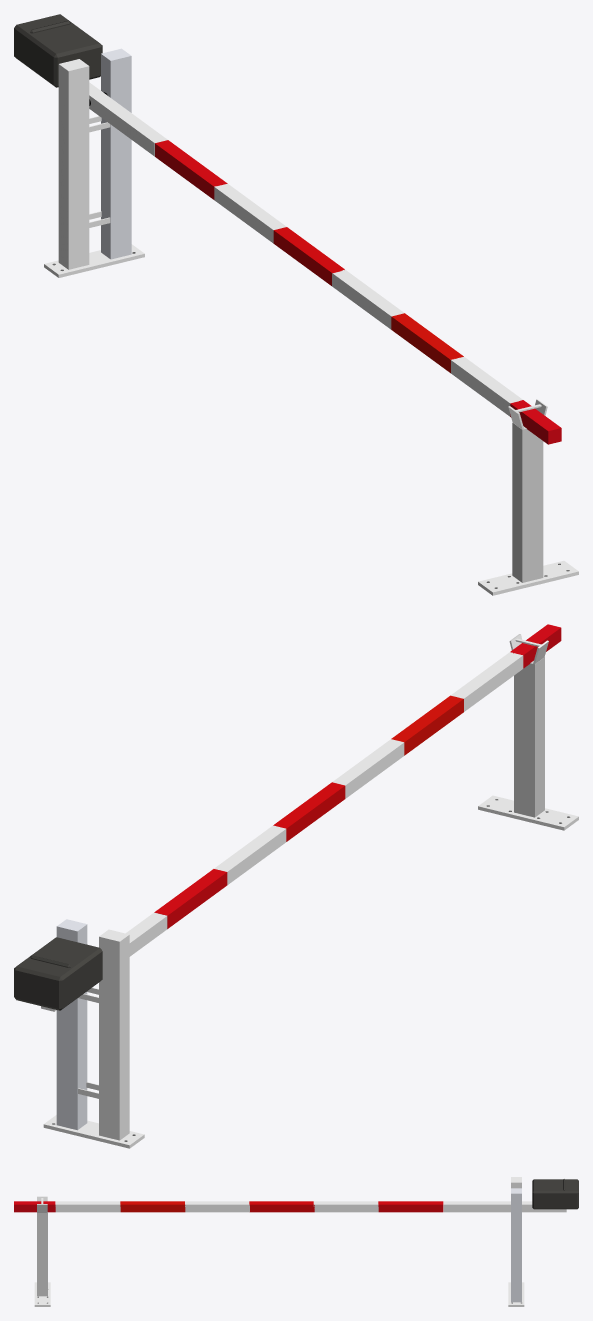
File: rising_barier_-_vastie.glb
3 renders of one model, top to bottom at view 1: azimuth 30°, elevation 25°; view 2: azimuth 150°, elevation 25°; view 3: azimuth 270°, elevation 25°, orthographic. The views are drawn at different scales.
Visible parts, largest first — view 1: Cube_0, Cube.001_3, Cube.006_8, Cube.020_34, Cube.005_7, Cube.010_12, Cube.014_16, Cube.011_13, Cube.013_15, Cube.015_17, Cube.012_14, Cube.007_9 (+2 smaller); view 2: Cube_0, Cube.020_34, Cube.006_8, Cube.001_3, Cube.010_12, Cube.014_16, Cube.015_17, Cube.011_13, Cube.013_15, Cube.012_14, Cube.007_9, Cube.005_7 (+2 smaller); view 3: Cube.020_34, Cube.001_3, Cube.005_7, Cube.006_8, Cube.015_17, Cube.010_12, Cube.011_13, Cube.014_16, Cube.012_14, Cube.013_15, Cube.016_18, Cube.007_9 (+1 smaller).
Part boxes in pixels (x1,y1,x2,y2): Cube_0: [58, 59, 89, 269]; Cube.001_3: [101, 48, 131, 259]; Cube.006_8: [512, 422, 543, 582]; Cube.020_34: [14, 14, 102, 87]; Cube.005_7: [89, 82, 167, 156]; Cube.010_12: [155, 140, 227, 199]; Cube.014_16: [391, 313, 463, 373]; Cube.011_13: [214, 183, 286, 243]; Cube.013_15: [332, 269, 403, 329]; Cube.015_17: [451, 357, 522, 416]; Cube.012_14: [273, 227, 344, 285]; Cube.007_9: [478, 560, 578, 595]; Cube_0: [99, 929, 129, 1140]; Cube.020_34: [14, 937, 102, 1010]; Cube.006_8: [514, 657, 544, 817]; Cube.001_3: [56, 919, 87, 1130]; Cube.010_12: [154, 869, 227, 928]; Cube.014_16: [391, 695, 463, 755]; Cube.015_17: [451, 652, 523, 711]; Cube.011_13: [214, 825, 286, 884]; Cube.013_15: [332, 739, 404, 798]; Cube.012_14: [273, 782, 345, 841]; Cube.007_9: [478, 795, 578, 830]; Cube.005_7: [41, 912, 167, 1011]; Cube.020_34: [532, 1179, 578, 1209]; Cube.001_3: [511, 1188, 521, 1302]; Cube.005_7: [443, 1201, 566, 1212]; Cube.006_8: [37, 1212, 47, 1296]; Cube.015_17: [55, 1201, 120, 1212]; Cube.010_12: [378, 1201, 443, 1212]; Cube.011_13: [313, 1201, 378, 1212]; Cube.014_16: [120, 1201, 185, 1212]; Cube.012_14: [249, 1201, 314, 1212]; Cube.013_15: [185, 1201, 249, 1212]; Cube.016_18: [14, 1201, 55, 1212]; Cube.007_9: [34, 1282, 50, 1306].
Size of the model in its own units: 0.3568 by 0.8177 by 3.71.
